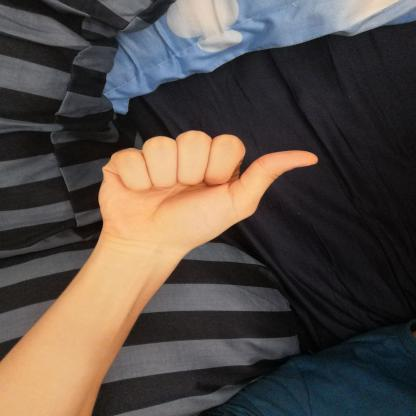DAD: (80, 120, 330, 262)
